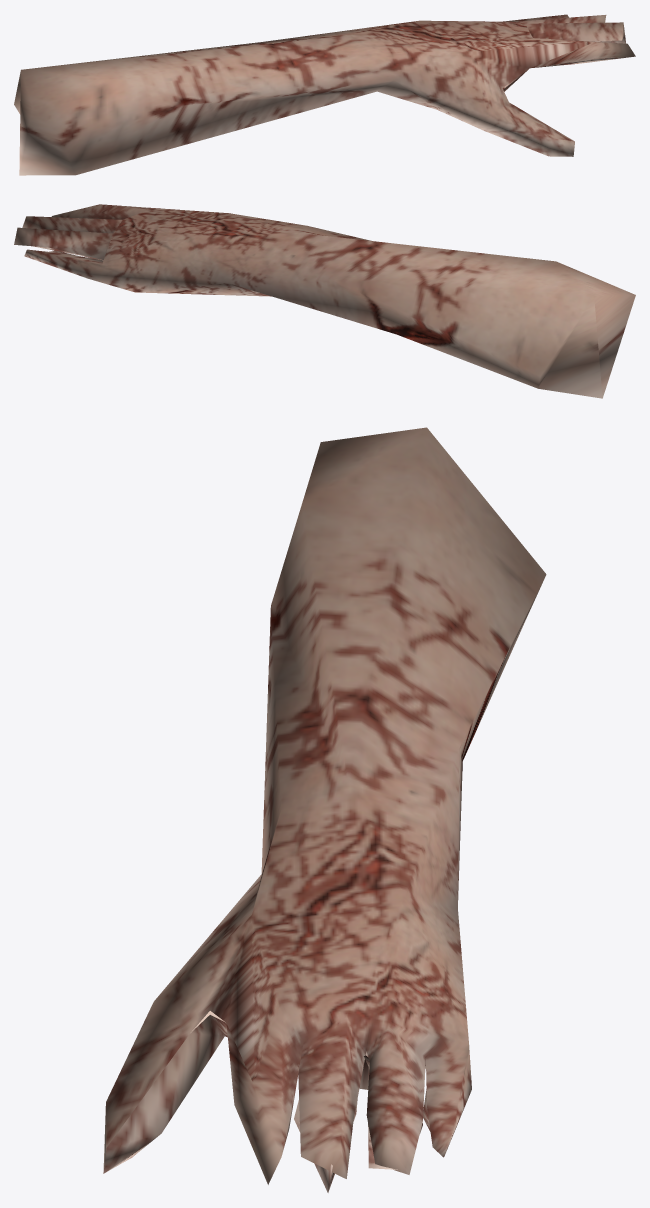
Rendered from gib_arm_2.gltf.
3 renders of one model, top to bottom at view 1: azimuth 30°, elevation 25°; view 2: azimuth 150°, elevation 25°; view 3: azimuth 270°, elevation 25°, orthographic. The views are drawn at different scales.
Visible parts, largest first — view 1: Object_6.029; view 2: Object_6.029; view 3: Object_6.029.
Boxes of the visible parts, x1,y1,x2,y2 form: Object_6.029: (14,14,635,175); Object_6.029: (14,204,635,398); Object_6.029: (103,427,546,1192).
Size of the model in its own units: 0.5673 by 0.13 by 0.1819.
Materials: 1 (1 with a texture image).
